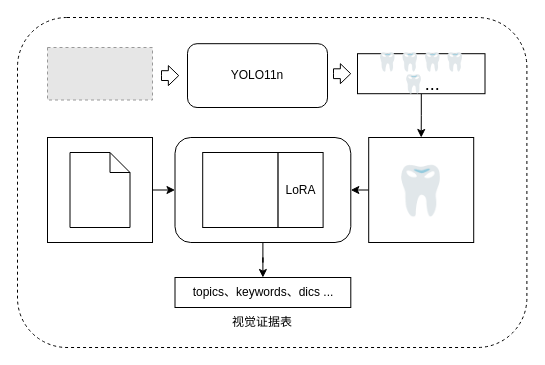
This 545x365 diagram has some shape labels left out. Grey dashed boxes stand in for pictures. The shapes that lost their labels are listed below. From the top down, each one's centre as x and y in pixels, then its label:
At (x=99, y=190): "有病... 真假... 严重...".
At (x=240, y=190): "VLM".
